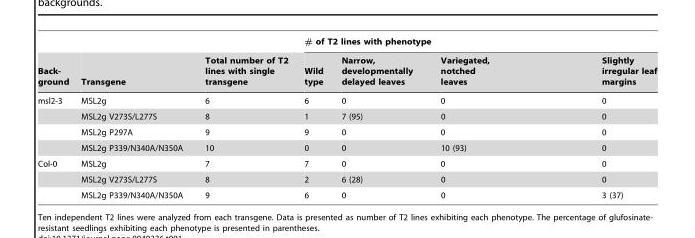table: (37, 36, 656, 199)
table column: (74, 36, 193, 199), (426, 36, 544, 199), (544, 36, 656, 199), (193, 36, 295, 199), (331, 36, 426, 199), (37, 36, 74, 199), (295, 36, 331, 199)
table column header: (37, 36, 656, 90)
table row: (37, 50, 656, 90), (37, 90, 656, 108), (37, 108, 656, 124), (37, 139, 656, 155), (37, 155, 656, 171), (37, 171, 656, 187), (37, 124, 656, 139), (37, 36, 656, 50), (37, 187, 656, 199)
table spanning cell: (74, 36, 193, 90), (193, 36, 295, 90), (295, 36, 656, 50), (37, 90, 74, 155), (37, 36, 74, 90), (37, 155, 74, 199)
